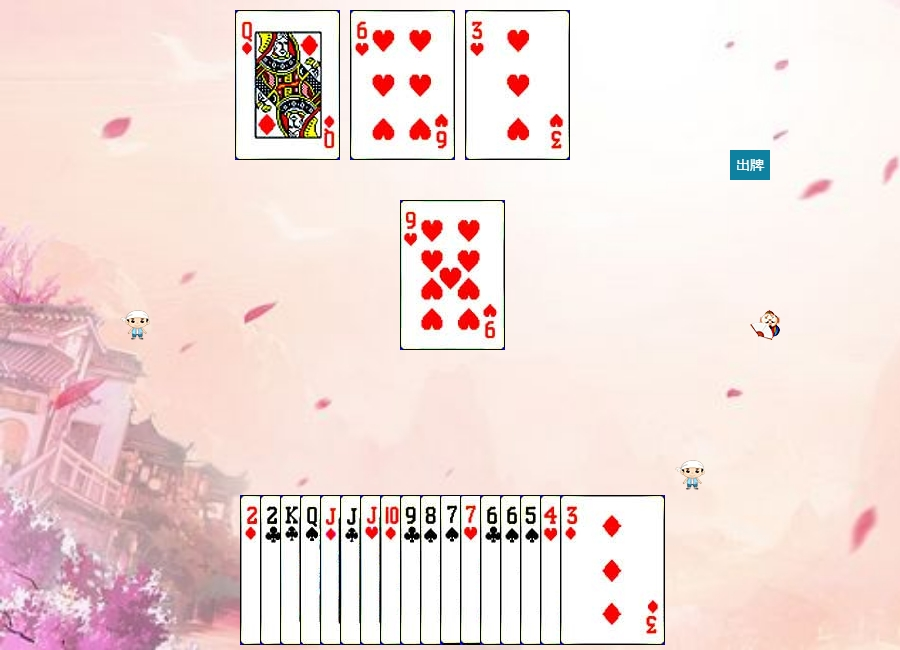10~1: (380, 495, 485, 645)
11~1: (320, 495, 425, 645)
11~2: (340, 495, 445, 645)
11~3: (360, 495, 465, 645)
12~1: (235, 10, 340, 160)
12~4: (300, 495, 405, 645)
13~2: (280, 495, 385, 645)
15~1: (240, 495, 345, 645)
15~2: (260, 495, 365, 645)
3~1: (560, 495, 665, 645)
3~3: (465, 10, 570, 160)
4~3: (540, 495, 645, 645)
5~4: (520, 495, 625, 645)
6~2: (480, 495, 585, 645)
6~3: (350, 10, 455, 160)
6~4: (500, 495, 605, 645)
7~3: (460, 495, 565, 645)
7~4: (440, 495, 545, 645)
8~4: (420, 495, 525, 645)
9~2: (400, 495, 505, 645)
9~3: (400, 200, 505, 350)
